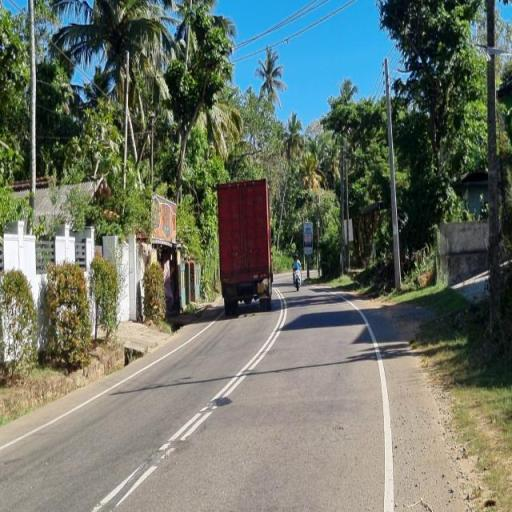double_white_line: (154, 290, 288, 460)
